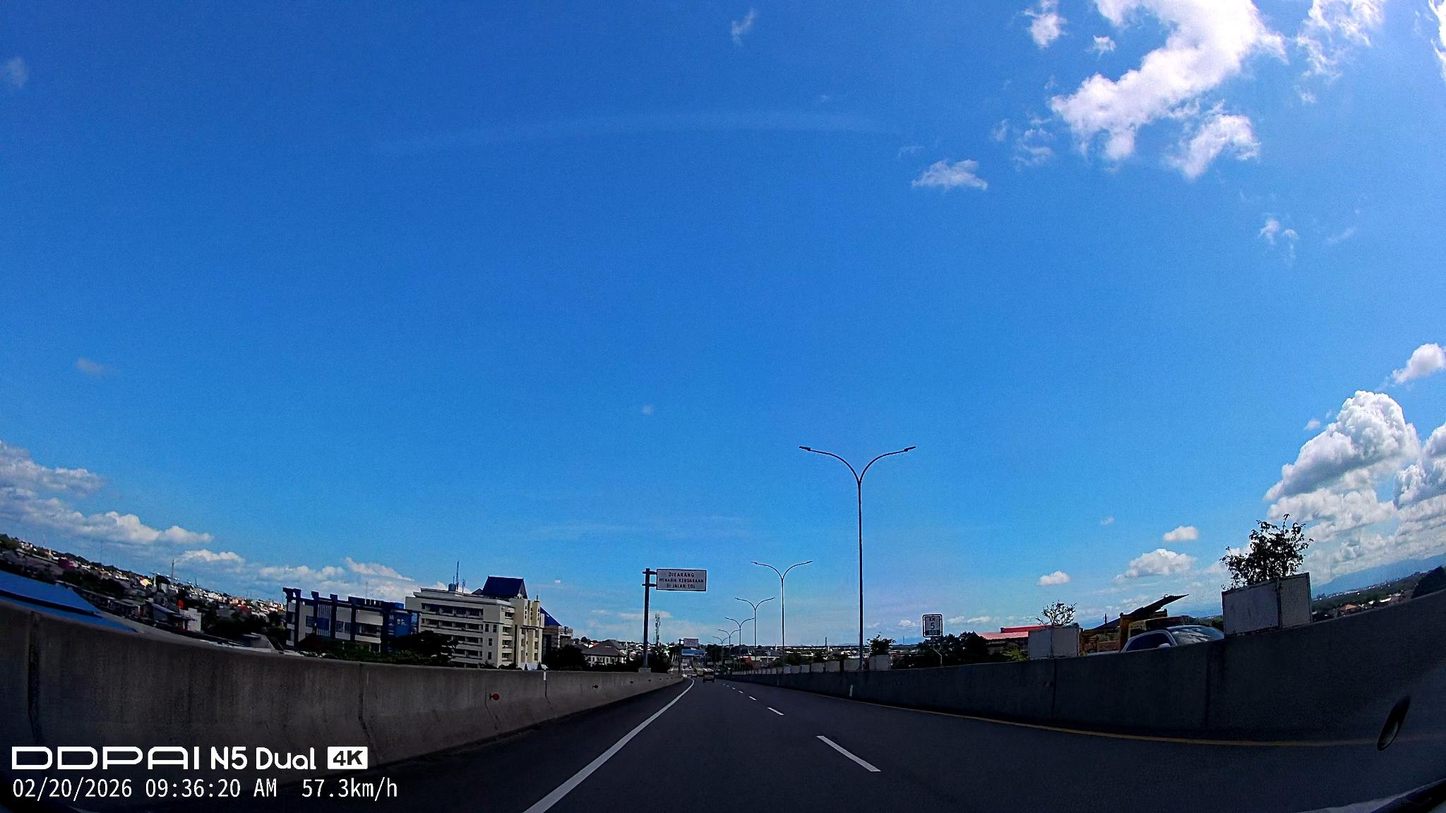rambu_teks: (656, 568, 707, 592)
